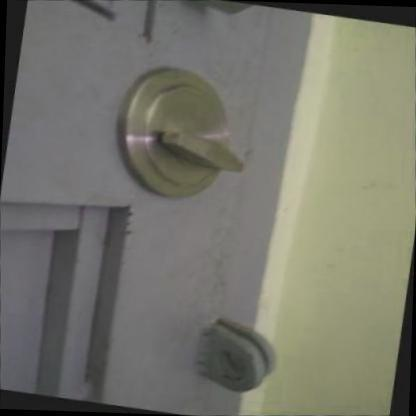lock: (88, 46, 322, 244)
